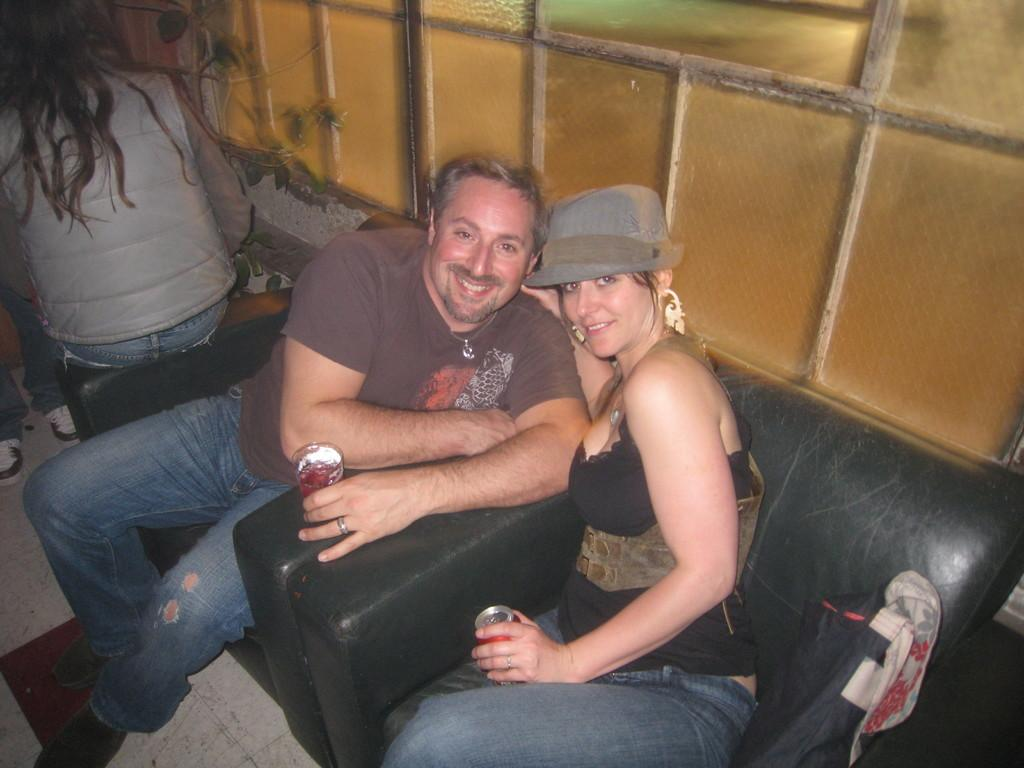Hat: (520, 185, 684, 291)
